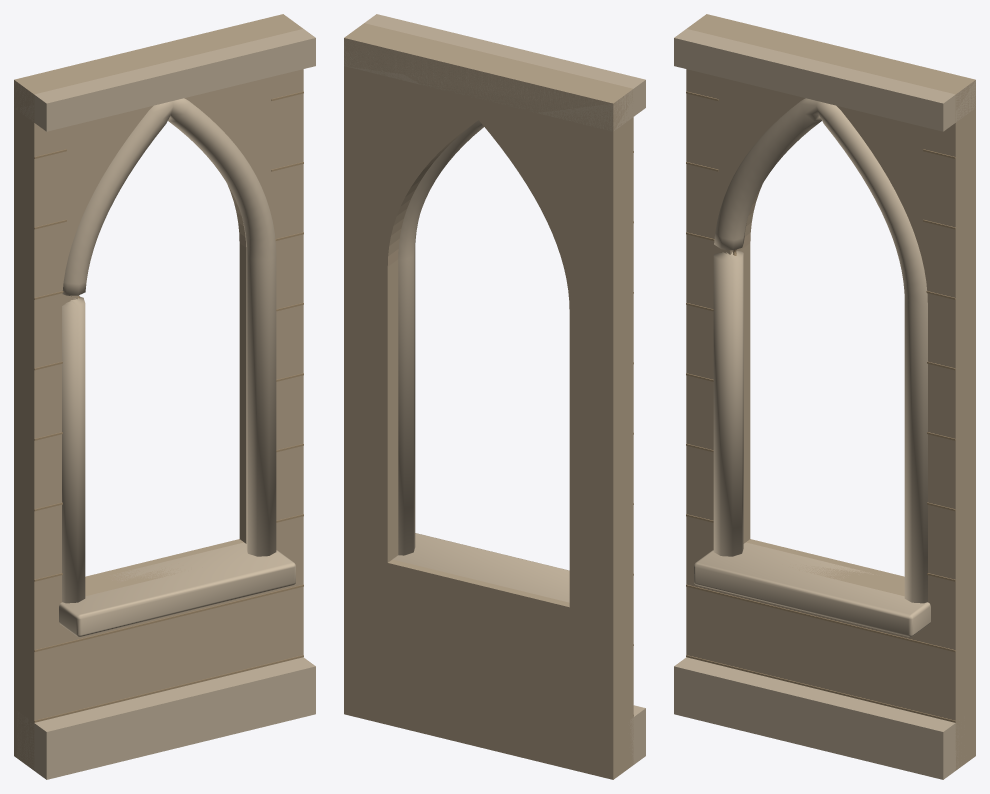
File: wall_pointed_2m.glb
3 renders of one model, left to right at view 1: azimuth 30°, elevation 25°; view 2: azimuth 150°, elevation 25°; view 3: azimuth 330°, elevation 25°, orthographic.
Parts seen in each view (by area): view 1: wall_pointed_2m; view 2: wall_pointed_2m; view 3: wall_pointed_2m.
Boxes of the visible parts, x1,y1,x2,y2 form: wall_pointed_2m: (14,14,315,779); wall_pointed_2m: (344,14,645,779); wall_pointed_2m: (674,14,975,779).
Size of the model in its own units: 2 by 4.8 by 0.505.
